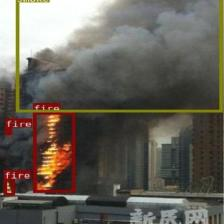fire: (33, 111, 74, 192), (3, 178, 14, 194), (4, 128, 11, 134)
smoke: (15, 0, 221, 112)
